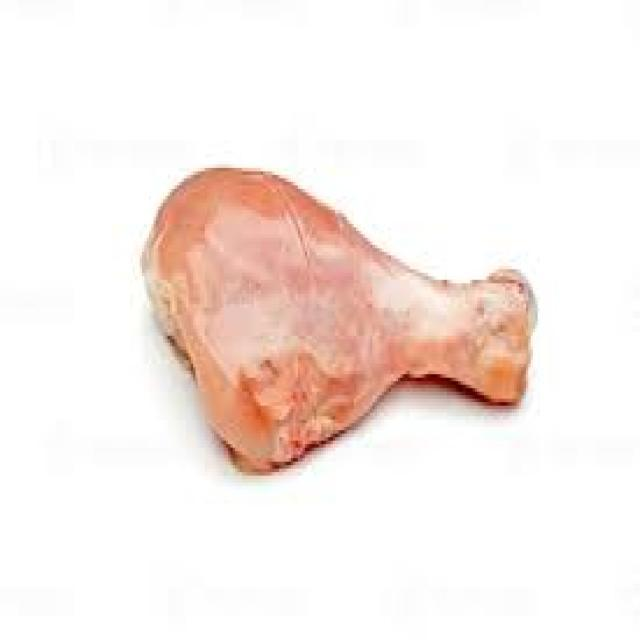leg: (134, 159, 538, 454)
